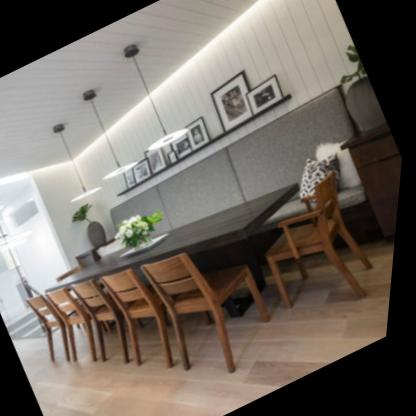Dining Table: (27, 151, 372, 407)
